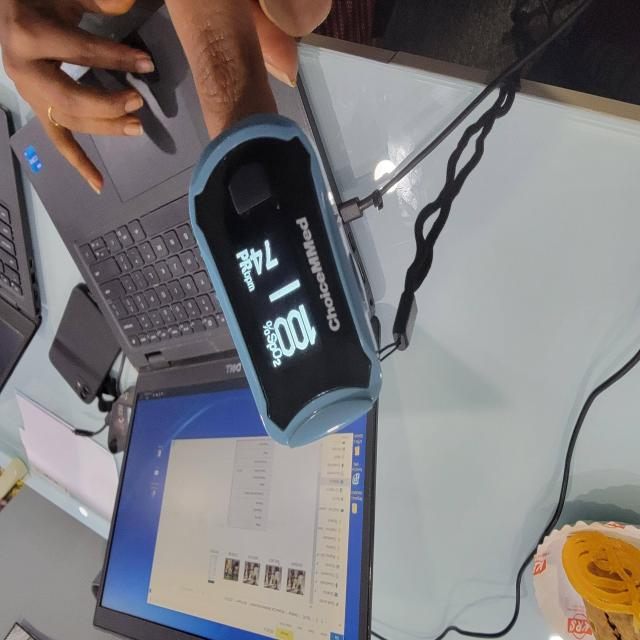spo2: (186, 113, 382, 451)
